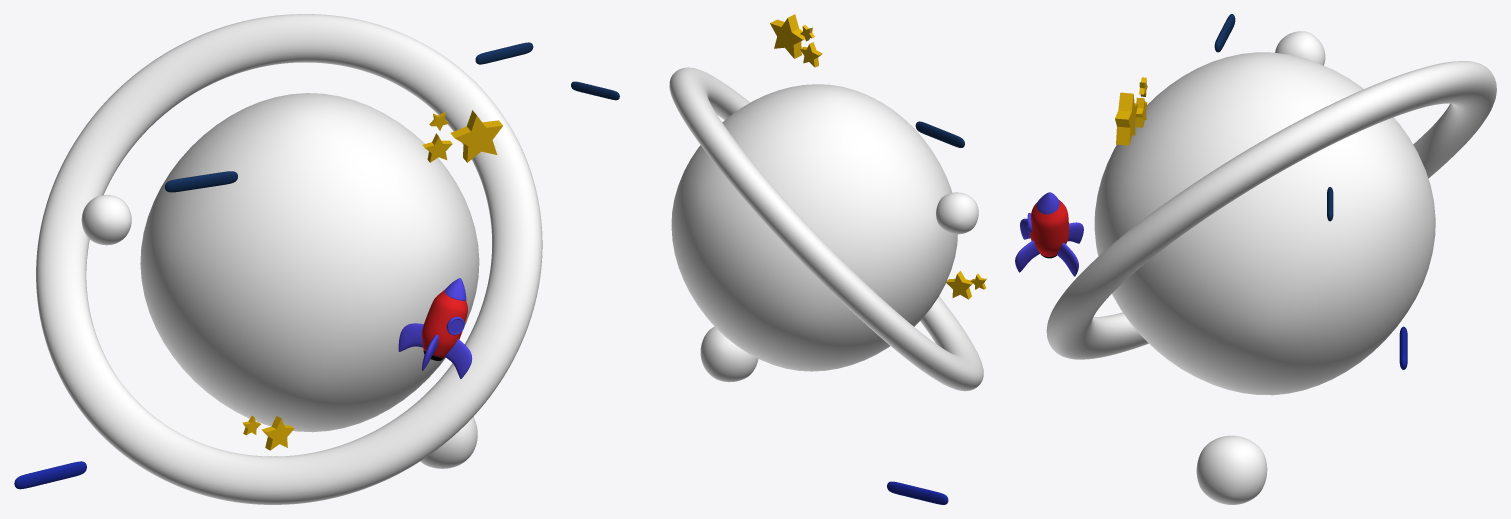
The model's file is Planet3.glb.
3 renders of one model, left to right at view 1: azimuth 30°, elevation 25°; view 2: azimuth 150°, elevation 25°; view 3: azimuth 270°, elevation 25°, orthographic. The views are drawn at different scales.
Parts seen in each view (by area): view 1: Cube.009, Circle.001, Cube.002, Cylinder.017, Cube.001, Cylinder.020, Star.002, Cube.003, Cube.004, Cube.006, Star; view 2: Cube.009, Circle.001, Cube.001, Cube.002, Star.002, Cube.003, Cube.004, Cube.006; view 3: Cube.009, Circle.001, Cube.001, Cylinder.017, Cylinder.020, Cube.002, Star.002.
Boxes of the visible parts, bbox=[...] form: Cube.009: bbox=[140, 93, 479, 432]; Circle.001: bbox=[36, 14, 542, 504]; Cube.002: bbox=[81, 195, 131, 245]; Cylinder.017: bbox=[422, 289, 467, 357]; Cube.001: bbox=[420, 417, 477, 468]; Cylinder.020: bbox=[398, 323, 472, 378]; Star.002: bbox=[450, 110, 502, 162]; Cube.003: bbox=[14, 461, 86, 489]; Cube.004: bbox=[164, 171, 237, 192]; Cube.006: bbox=[475, 42, 533, 64]; Star: bbox=[261, 416, 294, 450]; Cube.009: bbox=[671, 84, 957, 371]; Circle.001: bbox=[669, 67, 983, 391]; Cube.001: bbox=[700, 326, 758, 382]; Cube.002: bbox=[936, 192, 978, 234]; Star.002: bbox=[770, 14, 804, 58]; Cube.003: bbox=[887, 481, 948, 504]; Cube.004: bbox=[915, 121, 964, 147]; Cube.006: bbox=[571, 81, 619, 100]; Cube.009: bbox=[1094, 52, 1435, 395]; Circle.001: bbox=[1046, 61, 1496, 359]; Cube.001: bbox=[1196, 435, 1267, 504]; Cylinder.017: bbox=[1030, 200, 1068, 256]; Cylinder.020: bbox=[1015, 218, 1083, 276]; Cube.002: bbox=[1275, 31, 1325, 65]; Star.002: bbox=[1115, 92, 1137, 145].
Size of the model in its own units: 1.66 by 1.33 by 1.43.
